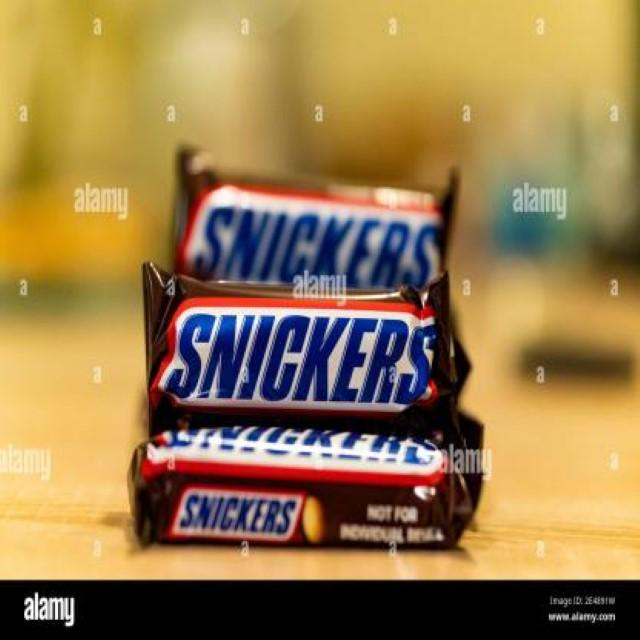snickers_chocolate: (162, 280, 438, 420), (138, 432, 468, 536), (184, 155, 438, 288)
